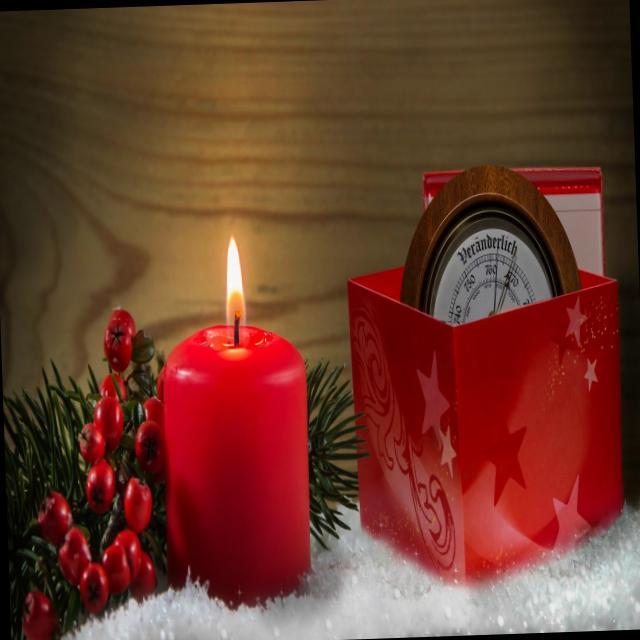Fire_Save: (150, 231, 316, 612)
